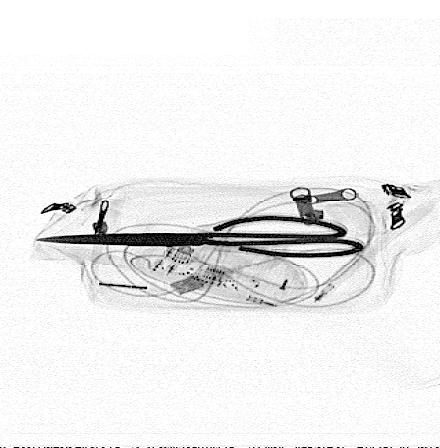Scissors: (28, 212, 369, 261)
